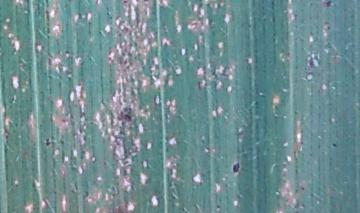tarspot: (117, 110, 131, 122), (231, 161, 241, 174), (307, 55, 316, 69), (63, 48, 72, 56), (44, 137, 51, 147), (325, 1, 333, 9), (325, 24, 332, 32), (299, 185, 305, 193), (331, 142, 338, 148), (253, 99, 259, 106), (122, 1, 128, 4)
